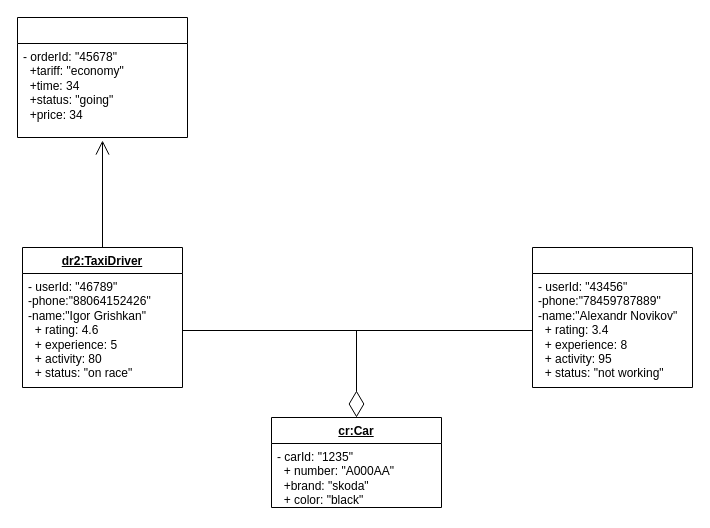
The diagram is 710 pixels wide and 528 high, and some of its shapes have lost their labels. The box of each missing label's shape, as (x1, y1, x2, y2) in pixels:
dr1:TaxiDriver: (532, 246, 692, 388)
ord:Order: (16, 16, 188, 138)
